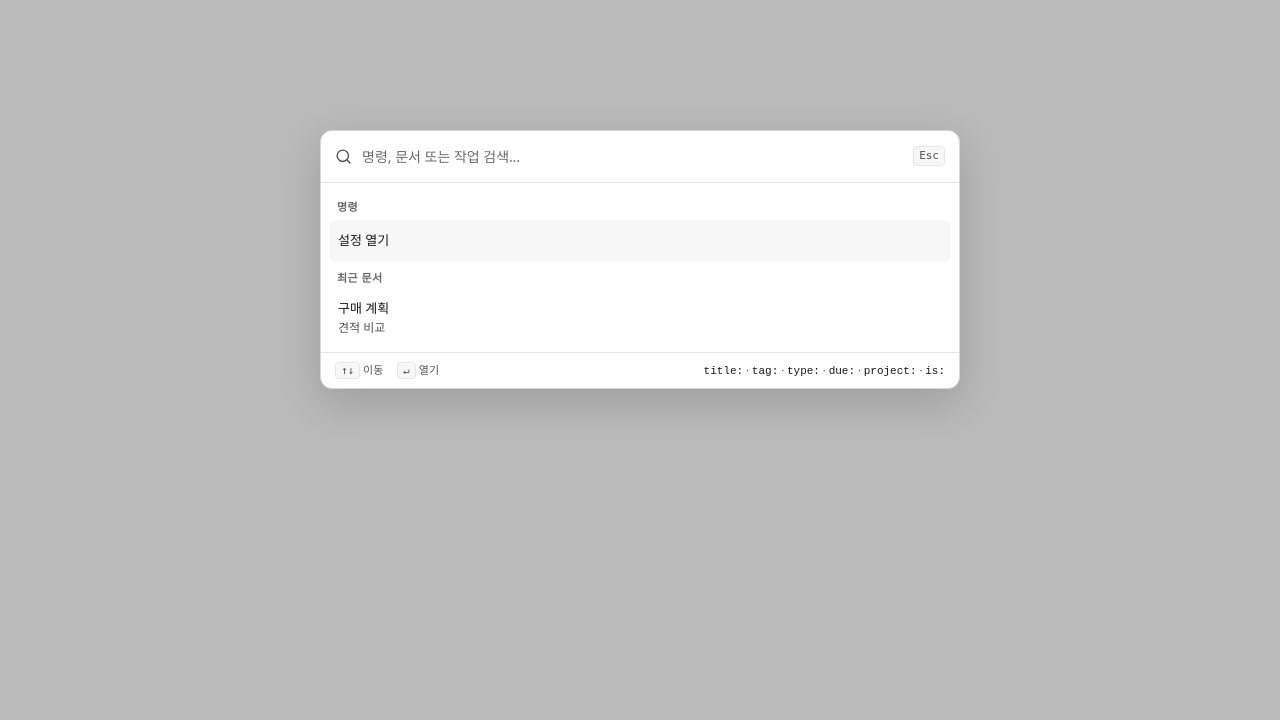
Test: CommandPalette › renders result groups and a no-result state
Check: the text "최근 문서" is shown, box [337, 270, 382, 285]
Check: the text "명령" is shown, box [337, 199, 358, 214]
In the dropdown named "명령 또는 검색": (633, 156) [362, 146, 903, 167], type "없는검색어"
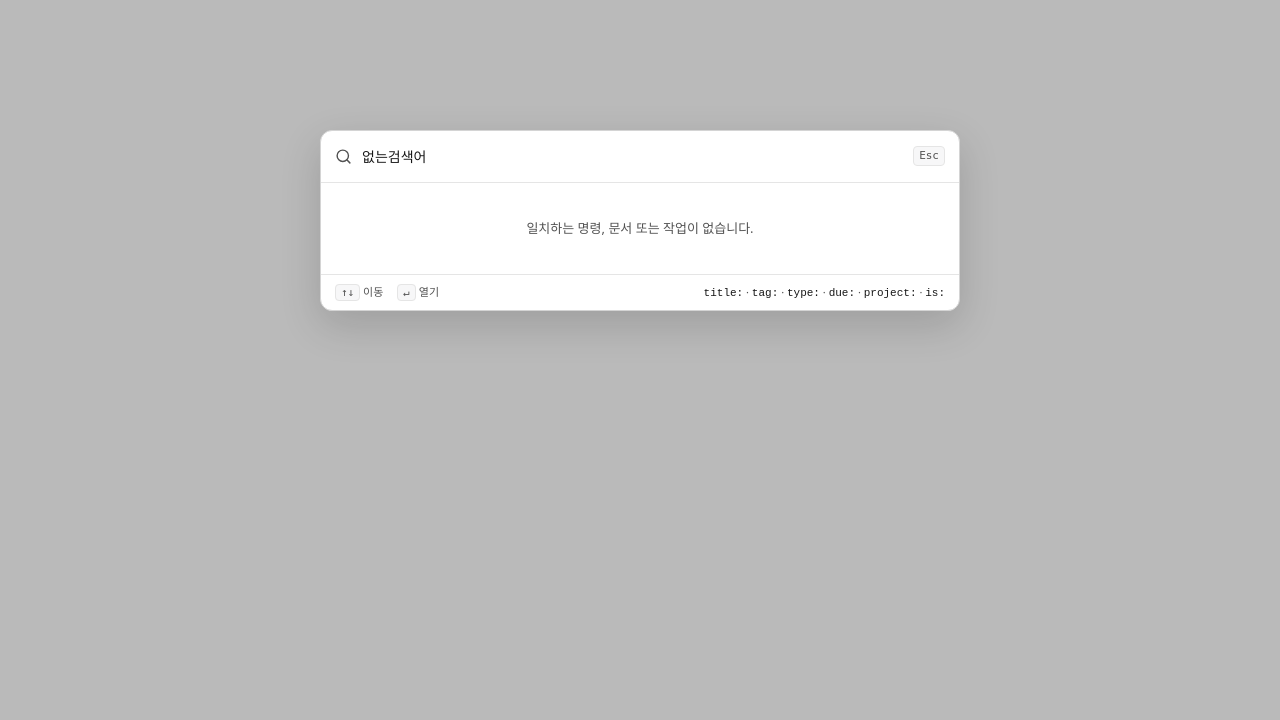
Check: the text "일치하는 명령, 문서 또는 작업이 없습니다." is shown, box [526, 219, 754, 237]
